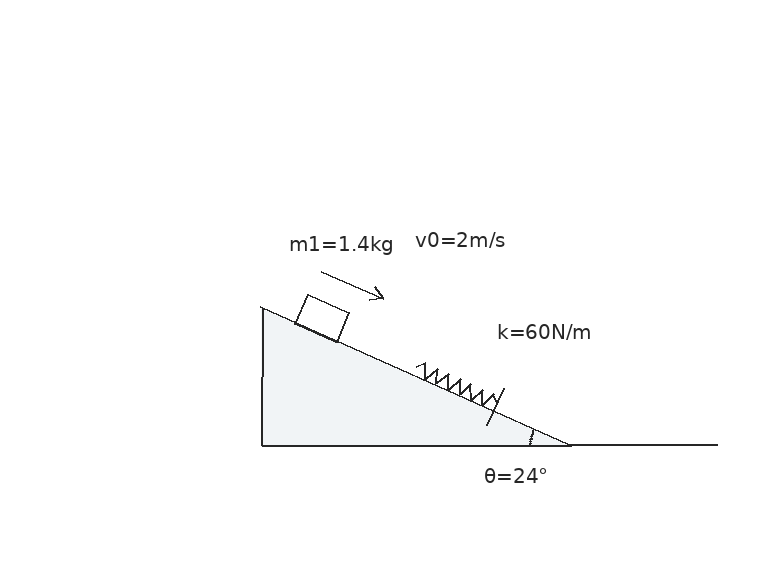block: (293, 292, 351, 344)
ramp: (259, 307, 572, 448)
spring: (414, 362, 498, 407)
